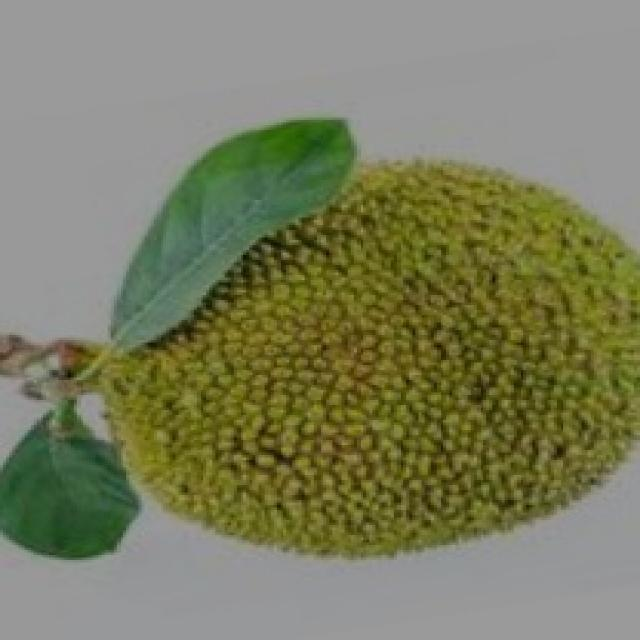Fruit: (209, 132, 640, 548)
